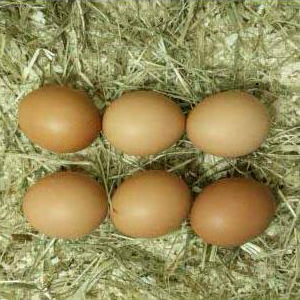egg: (190, 178, 276, 247), (185, 90, 270, 158), (101, 88, 186, 155), (23, 172, 109, 238), (109, 170, 191, 238), (17, 87, 100, 151)
